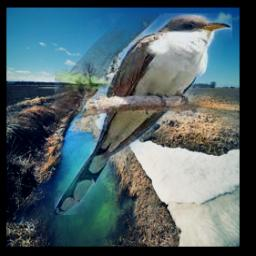Cuckoo: (54, 13, 231, 215)
